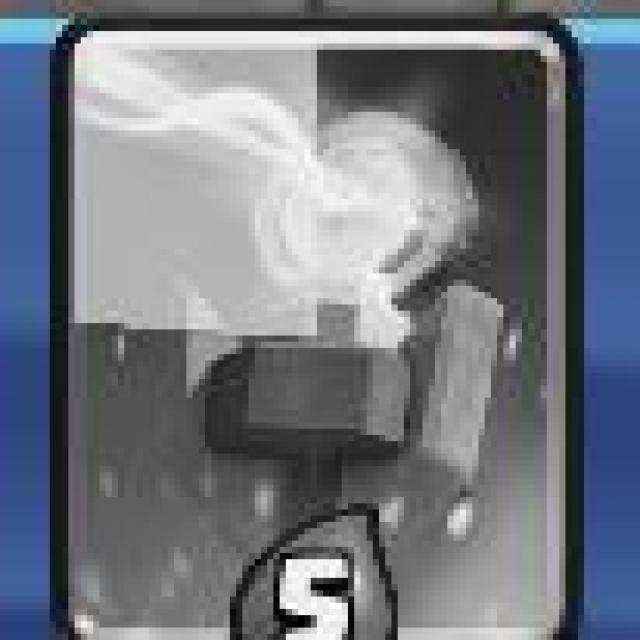Inferno_Tower: (51, 18, 571, 640)
